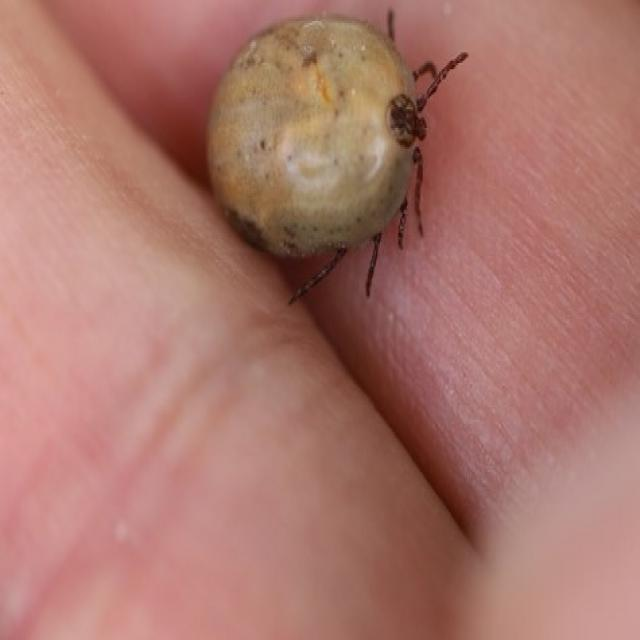Dermacentor Reticulatus-F-Fed: (207, 8, 470, 304)
